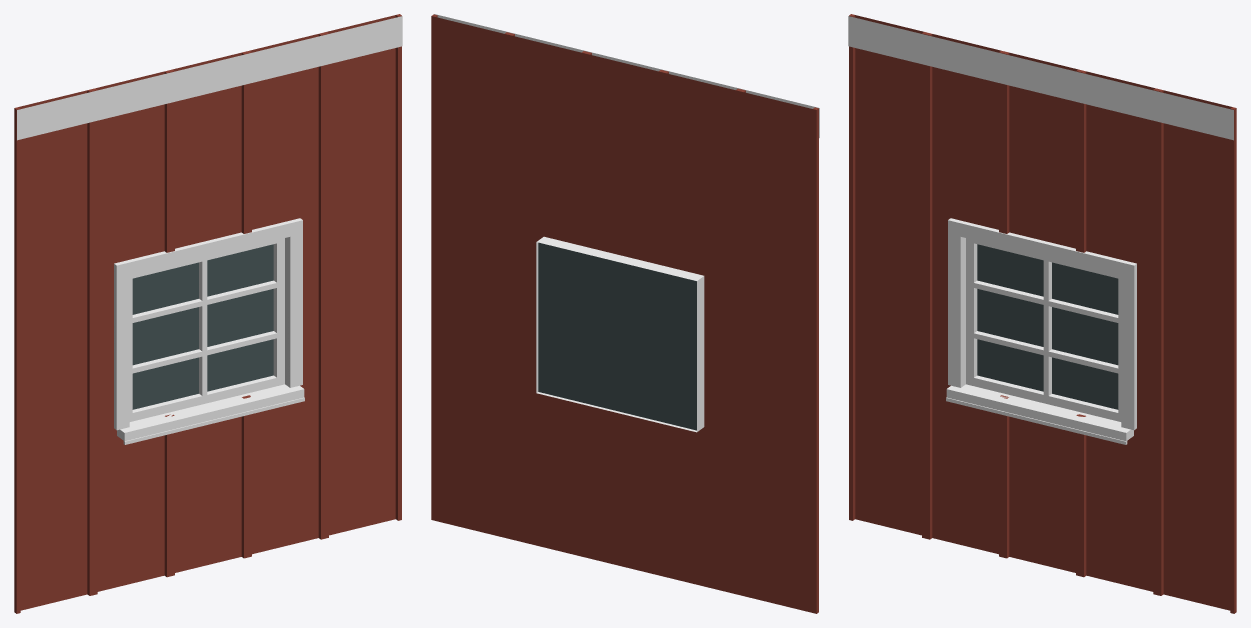
File: top-w3_close.fbx
3 renders of one model, left to right at view 1: azimuth 30°, elevation 25°; view 2: azimuth 150°, elevation 25°; view 3: azimuth 330°, elevation 25°, orthographic.
Visible parts, largest first — view 1: a2015/600/top-w3_close; view 2: a2015/600/top-w3_close; view 3: a2015/600/top-w3_close.
Part boxes in pixels (left/top/right/bottom): a2015/600/top-w3_close: left=14, top=14, right=402, bottom=613; a2015/600/top-w3_close: left=431, top=14, right=819, bottom=613; a2015/600/top-w3_close: left=848, top=14, right=1236, bottom=613.
Size of the model in its own units: 2.4 by 3 by 0.165.
